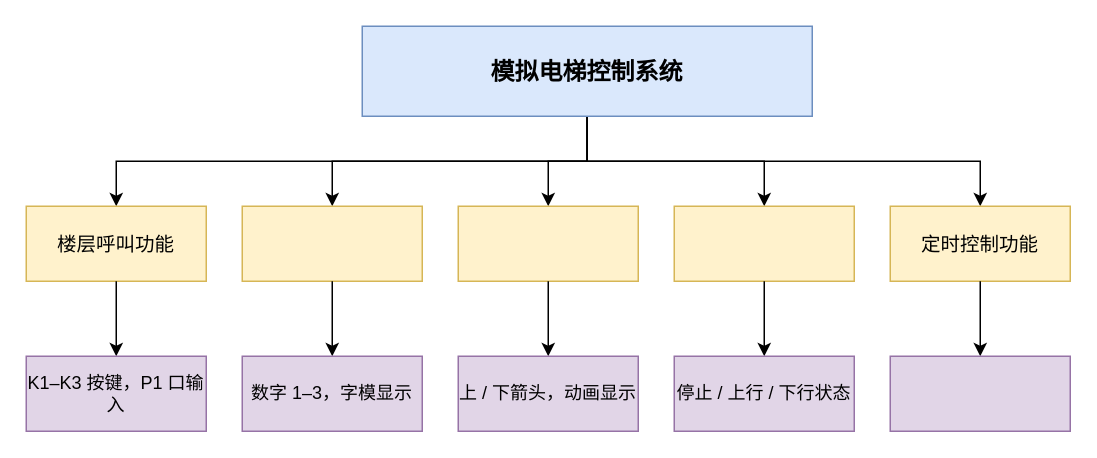
Image size: 1097x458. Some labels were removed from this diagram. The box of each missing label's shape, as (x1, y1, x2, y2) in pixels:
50ms 中断，1 秒 / 层: (889, 355, 1070, 431)
方向指示功能: (457, 205, 638, 281)
楼层显示功能: (241, 205, 422, 281)
状态控制功能: (673, 205, 854, 281)
